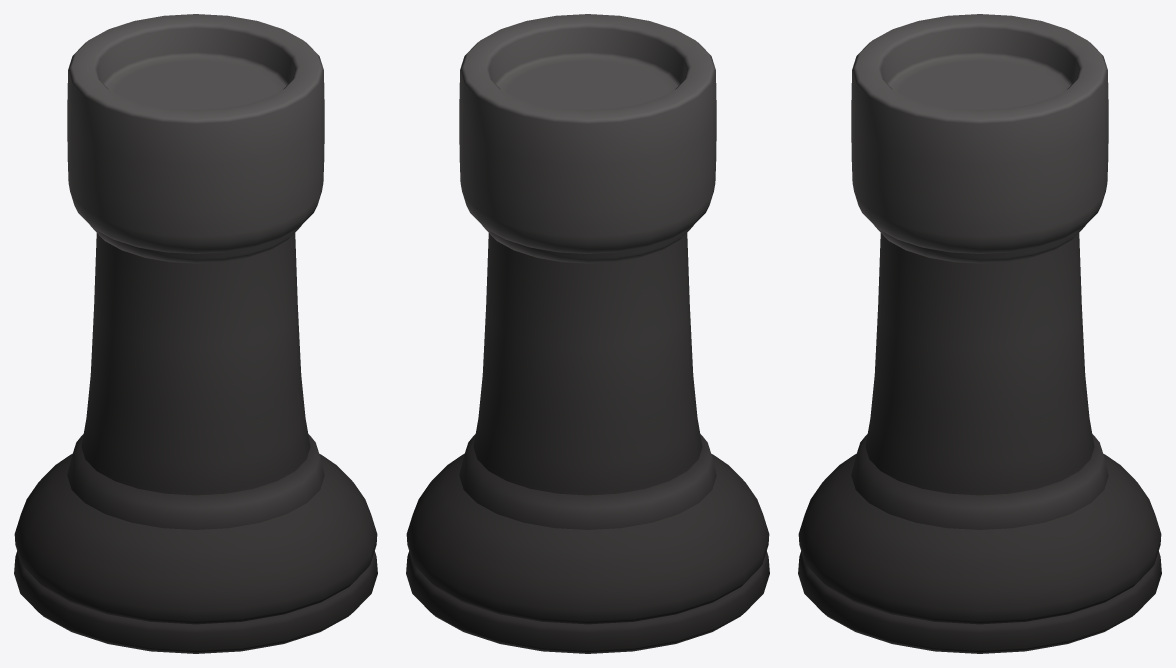
The model's file is Chess_Black_Rook_01.glb.
The picture shows the model from 3 angles, left to right: view 1: azimuth 30°, elevation 25°; view 2: azimuth 150°, elevation 25°; view 3: azimuth 270°, elevation 25°; orthographic projection.
Visible parts, largest first — view 1: Chess_Black_Rook_01; view 2: Chess_Black_Rook_01; view 3: Chess_Black_Rook_01.
Part boxes in pixels (x1,y1,x2,y2): Chess_Black_Rook_01: (14,14,377,653); Chess_Black_Rook_01: (406,14,769,653); Chess_Black_Rook_01: (798,14,1161,653).
Size of the model in its own units: 0.0369 by 0.0581 by 0.0369.
2 materials, 2 textured.
